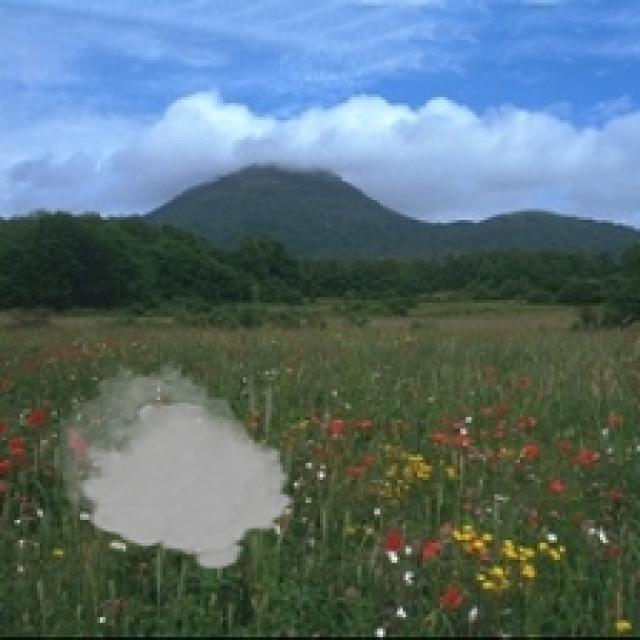Smoke: (60, 357, 297, 572)
